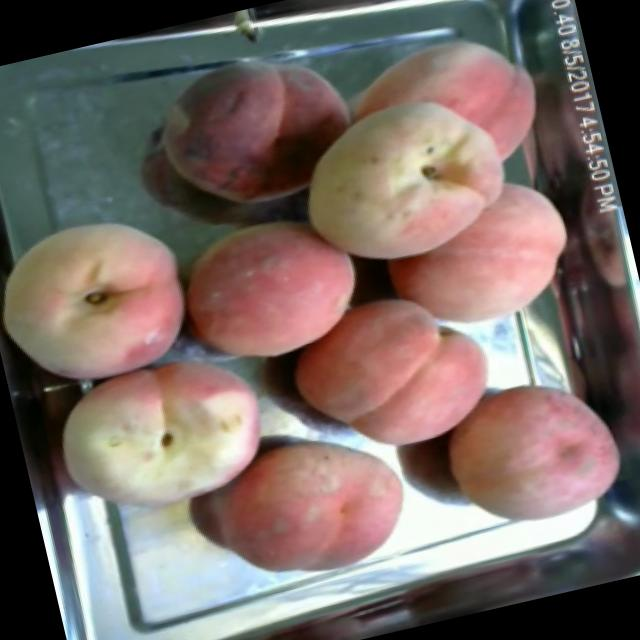Fruit: (275, 71, 534, 291), (122, 24, 378, 243), (267, 264, 513, 482), (177, 406, 430, 612), (39, 342, 291, 540), (152, 188, 382, 392), (363, 158, 597, 358), (0, 190, 213, 400), (422, 354, 640, 555)
